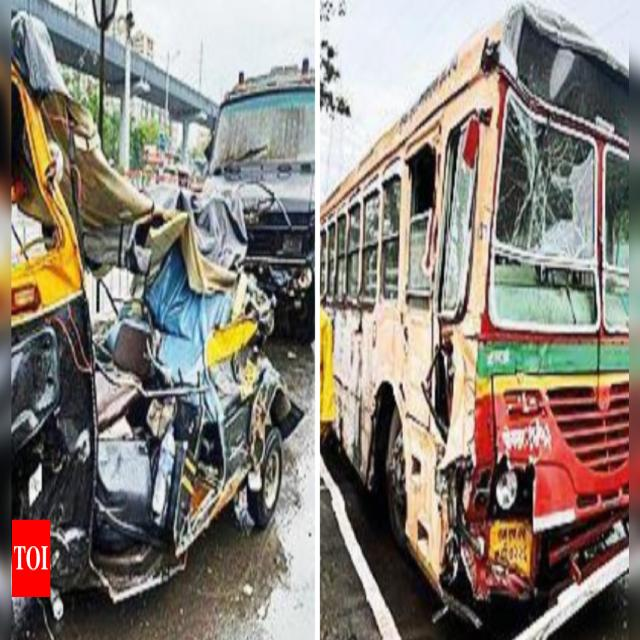accident: (319, 5, 634, 636), (11, 14, 301, 608)
